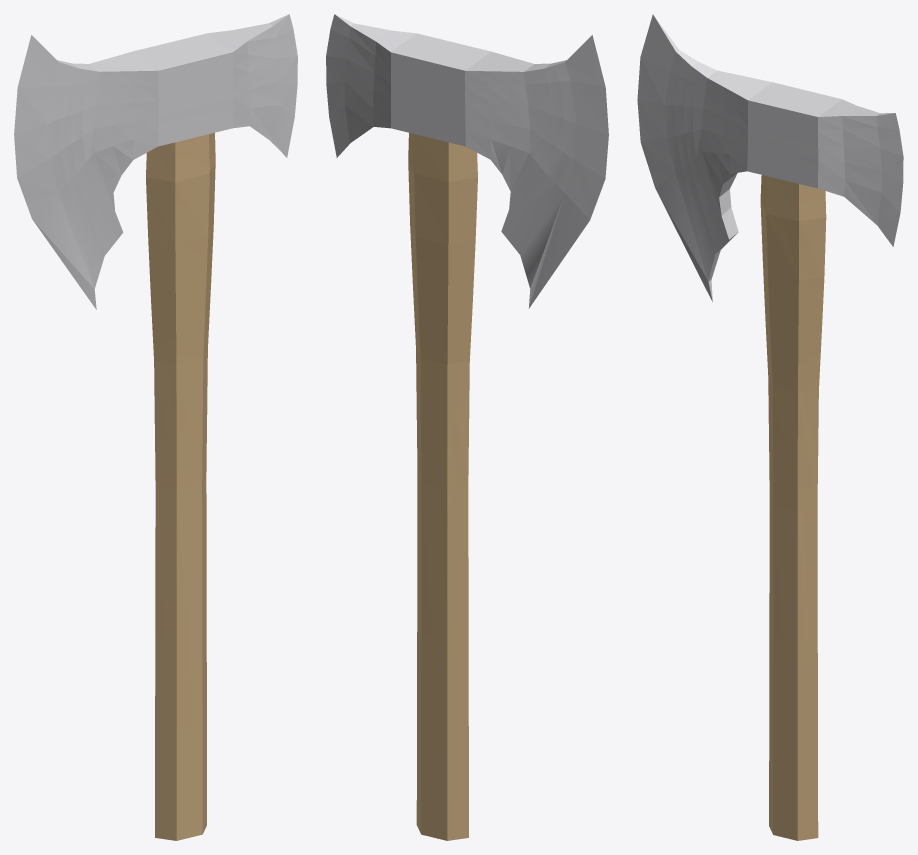
Rendered from axe.fbx.
3 views of the same model, side by side, from view 1: azimuth 30°, elevation 25°; view 2: azimuth 150°, elevation 25°; view 3: azimuth 330°, elevation 25° (orthographic). The views are drawn at different scales.
Visible parts, largest first — view 1: axe; view 2: axe; view 3: axe.
Part boxes in pixels (x1,y1,x2,y2): axe: [14, 14, 297, 840]; axe: [326, 14, 608, 840]; axe: [637, 14, 903, 840].
Size of the model in its own units: 11.39 by 32 by 1.83.
